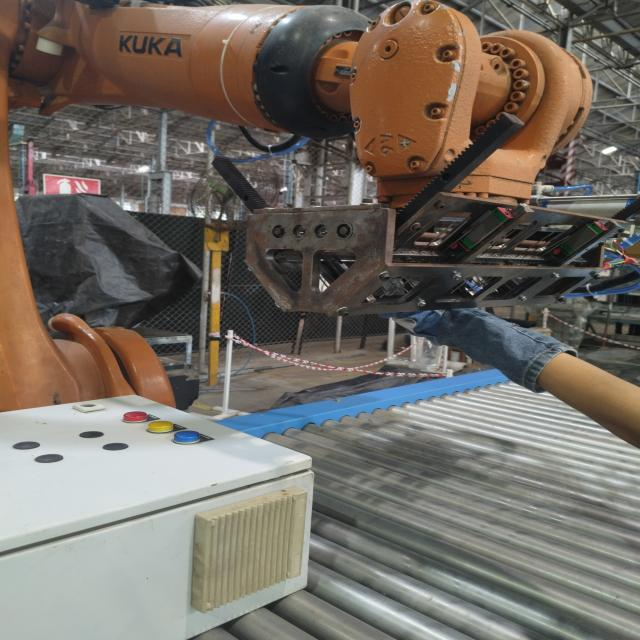Gloves-Detection: (387, 314, 566, 388)
